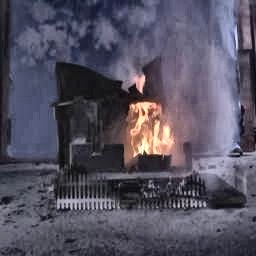fire: (115, 94, 180, 174)
smoke: (119, 0, 256, 90)
